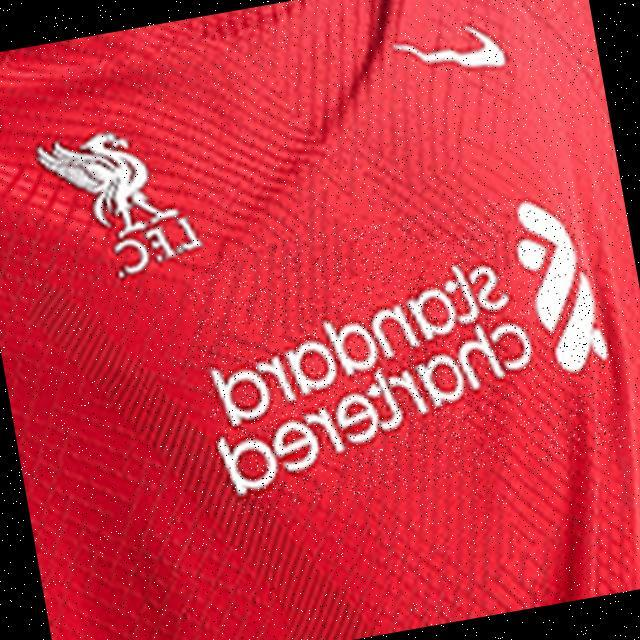Nike: (389, 14, 507, 87)
Standard Chartered: (182, 188, 627, 518)
